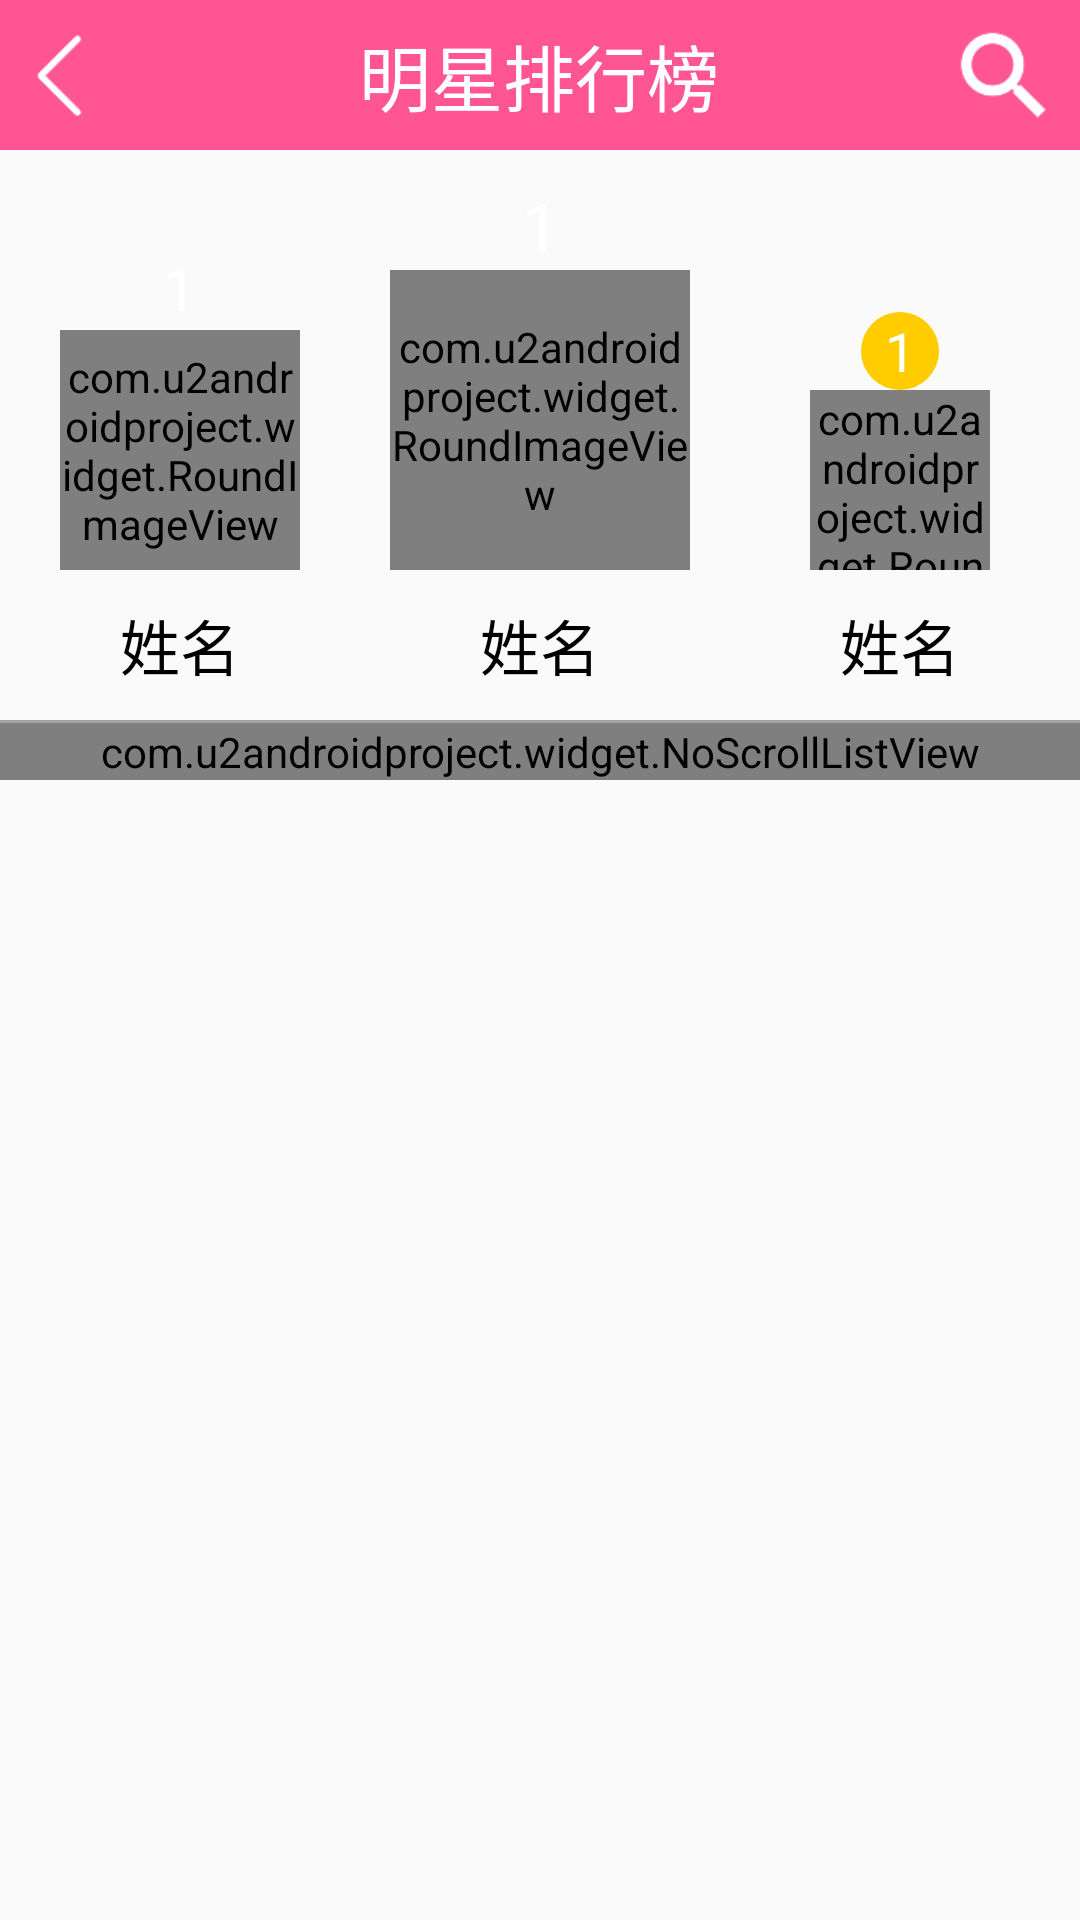

Icon click points for this 1080x1920 phone screenshot, format point (x, y):
back: point (59, 75)
find: point (1003, 75)
